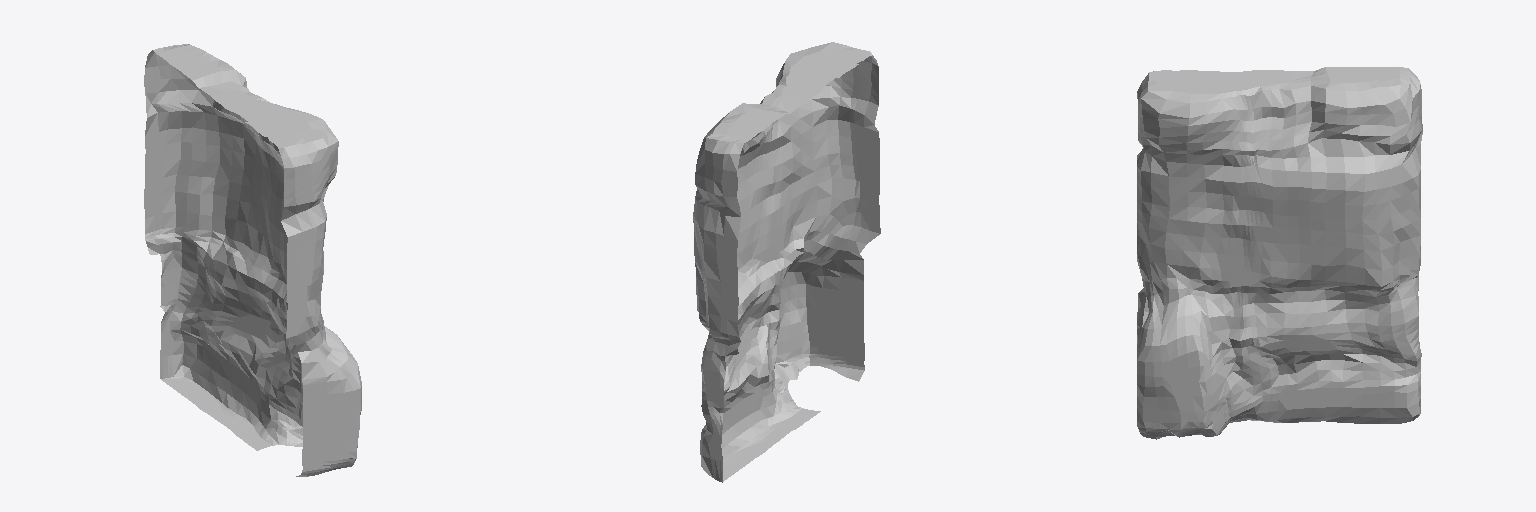
Rendered from Rock_Wall_2.obj.
The picture shows the model from 3 angles: view 1: azimuth 30°, elevation 25°; view 2: azimuth 150°, elevation 25°; view 3: azimuth 270°, elevation 25°; orthographic projection.
Visible parts, largest first — view 1: Rock_Wall_2:polySurface1; view 2: Rock_Wall_2:polySurface1; view 3: Rock_Wall_2:polySurface1.
Part boxes in pixels (x1,y1,x2,y2): Rock_Wall_2:polySurface1: (144,44,361,476); Rock_Wall_2:polySurface1: (693,42,880,482); Rock_Wall_2:polySurface1: (1137,67,1422,439).
Size of the model in its own units: 1.36 by 5.25 by 4.02.